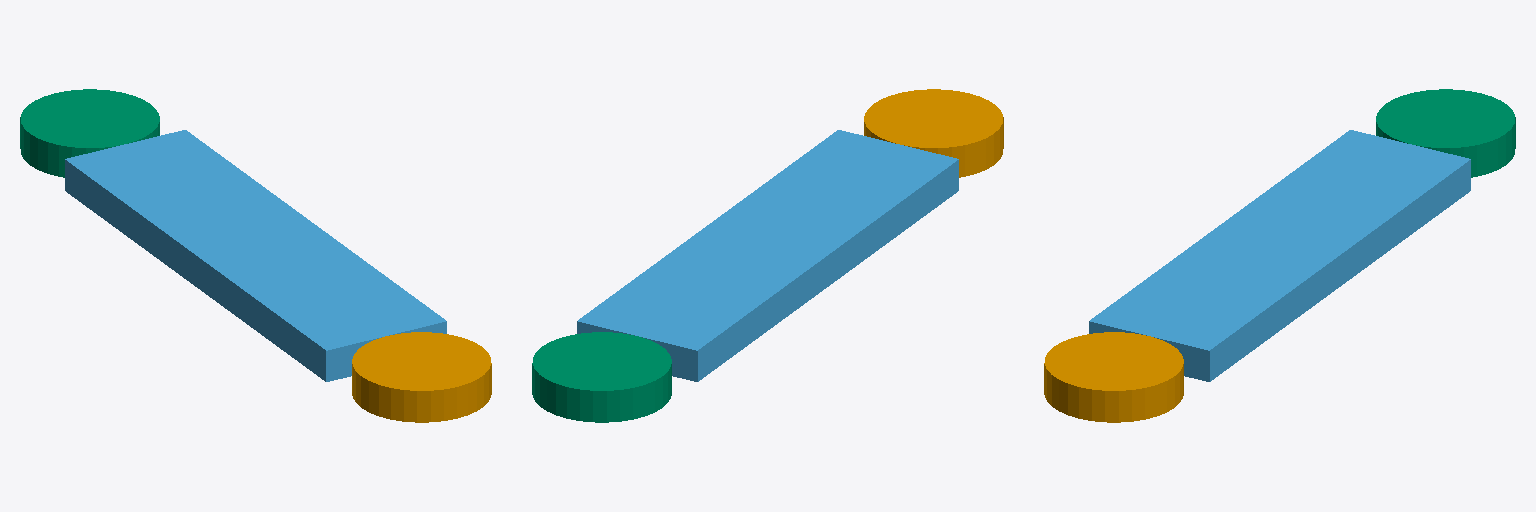
URDF robot description (planar_manipulator/1dof_manip_no_endeffector):
<?xml version="1.0"?>
<robot name="planar_manipulator/1dof_manip_no_endeffector">
 <link name="jlink0">
  <inertial>
    <mass value="1"/>
    <inertia ixx="0.0108333333333" ixy="0" ixz="0" iyy="0.0108333333333" iyz="0" izz="0.01"/>
  </inertial>
  <visual>
    <origin rpy="0 0 1.57" xyz="0 0 0"/>
    <geometry>
      <cylinder length="0.1" radius="0.2"/>
    </geometry>
  </visual>
  <collision>
    <origin rpy="0 0 1.57" xyz="0 0 0"/>
    <geometry>
      <cylinder length="0.1" radius="0.2"/>
    </geometry>
  </collision>
 </link>

 <link name="link0">
  <inertial>
    <mass value="1"/>
    <inertia ixx="0.0141666666667" ixy="0" ixz="0" iyy="0.200833333333" iyz="0" izz="0.188333333333"/>
  </inertial>
  <visual>
    <origin rpy="0 0 0" xyz="0 0.95 0"/>
    <geometry>
      <box size="0.4 1.5 0.1"/>
    </geometry>
  </visual>
  <collision>
    <origin rpy="0 0 0" xyz="0 0.95 0"/>
    <geometry>
      <box size="0.4 1.5 0.1"/>
    </geometry>
  </collision>
 </link>

<joint name="joint_revolute_jlink0_link0_Z" type="revolute">
  <origin rpy="0 0 0" xyz="0 0 0"/>
  <parent link="jlink0"/>
  <child link="link0"/>
  <axis xyz="0 0 1"/>
  <dynamics damping="0.01" friction="0.5"/>
  <limit lower="-3.14" upper="3.14" effort="0.01" velocity="100"/>
</joint>

 <link name="jlink1">
  <inertial>
    <mass value="1"/>
    <inertia ixx="0.0108333333333" ixy="0" ixz="0" iyy="0.0108333333333" iyz="0" izz="0.01"/>
  </inertial>
  <visual>
    <origin rpy="0 0 1.57" xyz="0 0 0"/>
    <geometry>
      <cylinder length="0.1" radius="0.2"/>
    </geometry>
  </visual>
  <collision>
    <origin rpy="0 0 1.57" xyz="0 0 0"/>
    <geometry>
      <cylinder length="0.1" radius="0.2"/>
    </geometry>
  </collision>
 </link>

<joint name="joint_fixed_link0_jlink1" type="fixed">
  <origin rpy="0 0 0" xyz="0 1.9 0"/>
  <parent link="link0"/>
  <child link="jlink1"/>
</joint>

  <klampt package_root="../../.." default_acc_max="4" >
  </klampt>
</robot>

--- Render facts (derived) ---
The picture shows the robot from 3 angles, left to right: view 1: azimuth 30°, elevation 25°; view 2: azimuth 150°, elevation 25°; view 3: azimuth 330°, elevation 25°; orthographic projection.
Robot: planar_manipulator/1dof_manip_no_endeffector — 3 links, 2 joints (1 revolute, 1 fixed); root link jlink0; default pose: every joint at zero.
Links seen in each view (by area): view 1: link0, jlink0, jlink1; view 2: link0, jlink1, jlink0; view 3: link0, jlink0, jlink1.
Link boxes in pixels (<box>): link0: <box>65,130,446,381</box>; jlink0: <box>352,332,491,422</box>; jlink1: <box>20,89,159,177</box>; link0: <box>577,130,958,381</box>; jlink1: <box>532,332,671,422</box>; jlink0: <box>864,89,1003,177</box>; link0: <box>1089,130,1470,381</box>; jlink0: <box>1044,332,1183,422</box>; jlink1: <box>1376,89,1515,177</box>.
Bounding box of the posed robot: 0.4 × 2.3 × 0.1 m (x, y, z).
Geometry: primitives only (box / cylinder / sphere), no mesh files.